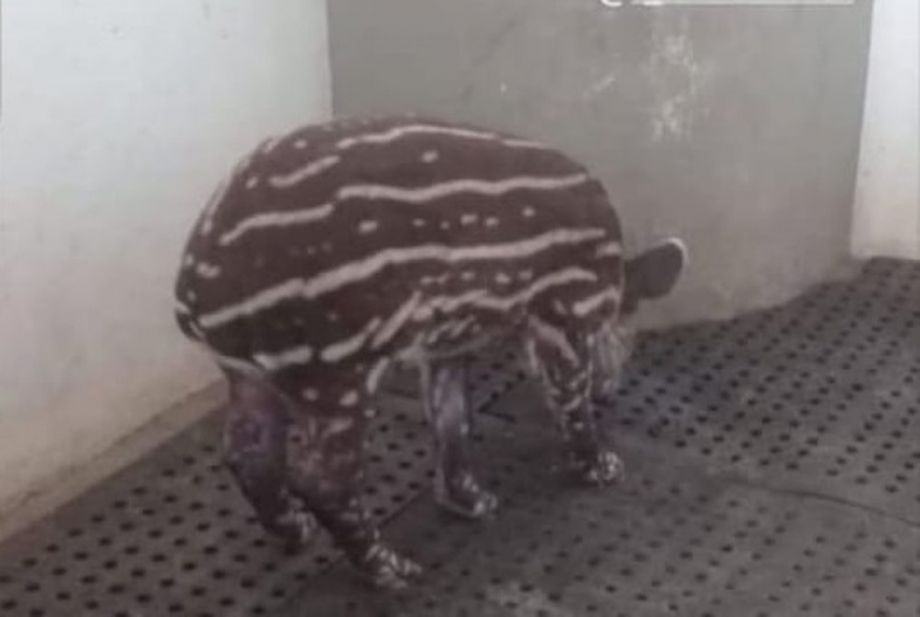Anta: (161, 102, 702, 592)
